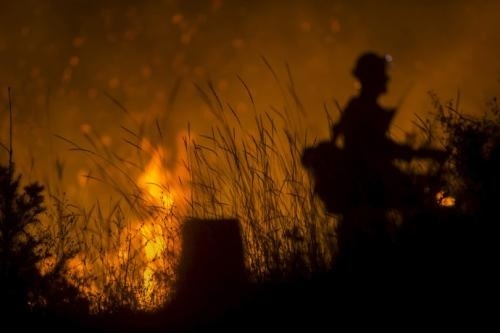fire: (45, 138, 190, 310)
